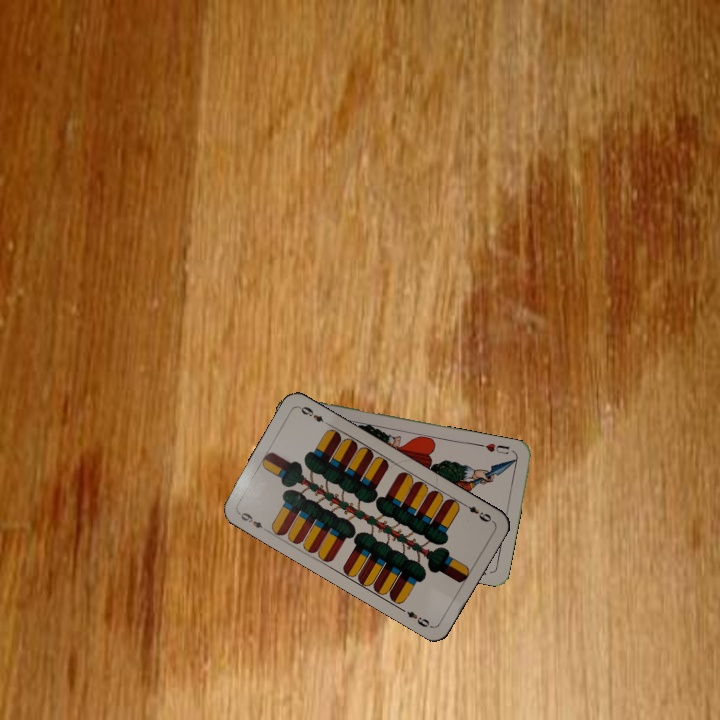E9: (459, 499, 496, 525), (234, 508, 271, 534)
HU: (476, 439, 512, 457)
